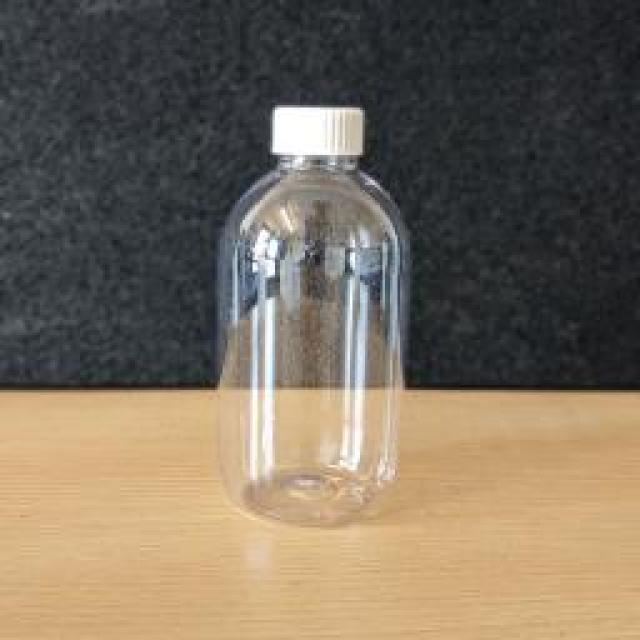bottle: (217, 103, 403, 527)
